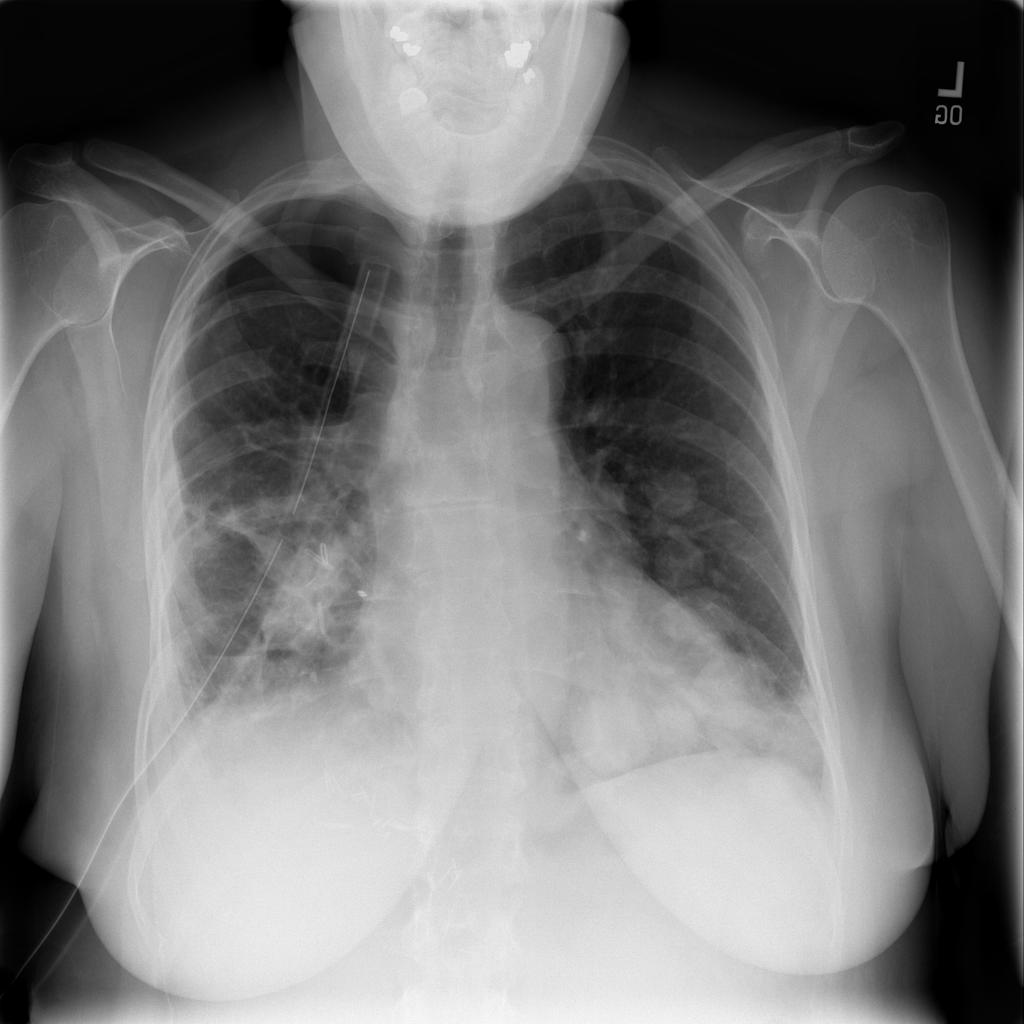nodule: (561, 671, 659, 782), (691, 651, 788, 760), (650, 586, 730, 660), (636, 453, 713, 528), (642, 689, 716, 759), (642, 527, 717, 593)
